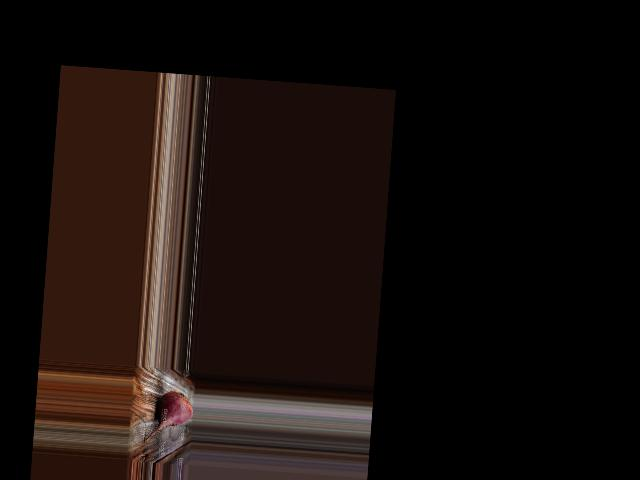beet: (144, 389, 193, 445)
